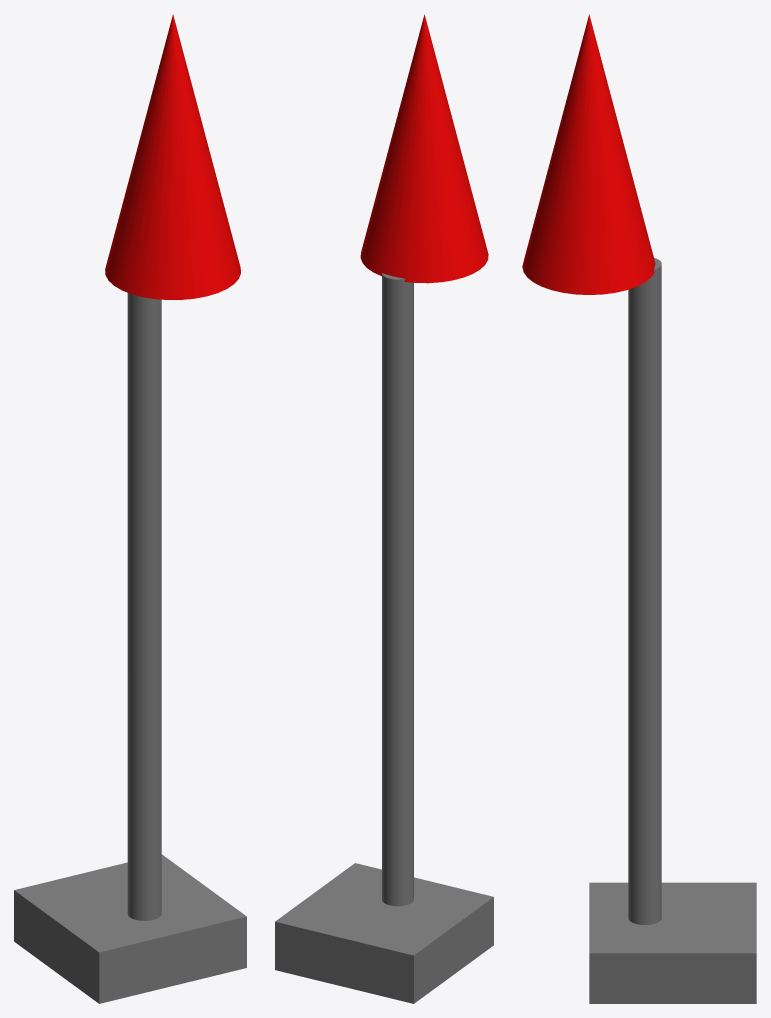
File: lamp.glb
3 views of the same model, side by side, from view 1: azimuth 30°, elevation 25°; view 2: azimuth 150°, elevation 25°; view 3: azimuth 270°, elevation 25° (orthographic). The views are drawn at different scales.
Visible parts, largest first — view 1: base, stem, shade; view 2: base, stem, shade; view 3: stem, shade, base.
Part boxes in pixels (box(x1,y1,x2,y2)): base: box(14, 854, 246, 1003); stem: box(127, 293, 161, 920); shade: box(105, 14, 240, 299); base: box(275, 863, 493, 1003); stem: box(382, 273, 413, 906); shade: box(360, 14, 488, 283); stem: box(628, 258, 661, 924); shade: box(522, 14, 655, 294); base: box(589, 882, 756, 1003).
Bounding box in the file's own units: 0.15 × 0.944 × 0.21.
